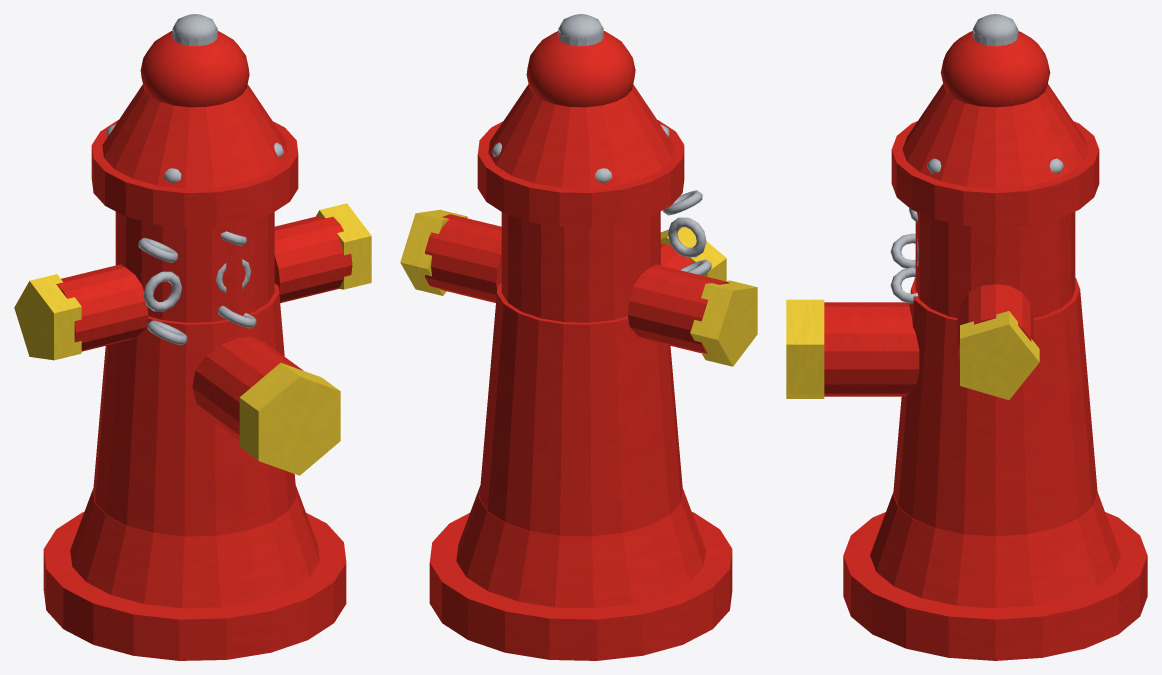
The model's file is prop_fire_hydrant.glb.
3 views of the same model, side by side, from view 1: azimuth 30°, elevation 25°; view 2: azimuth 150°, elevation 25°; view 3: azimuth 270°, elevation 25° (orthographic).
Parts seen in each view (by area): view 1: prop_fire_hydrant_barrel_lower, prop_fire_hydrant_ground_flange, prop_fire_hydrant_flange_cone, prop_fire_hydrant_bonnet, prop_fire_hydrant_barrel_upper, prop_fire_hydrant_bonnet_flange, prop_fire_hydrant_pumper_cap, prop_fire_hydrant_dome, prop_fire_hydrant_nozzle_l, prop_fire_hydrant_nozzle_r, prop_fire_hydrant_pumper, prop_fire_hydrant_nozzle_cap_l (+5 smaller); view 2: prop_fire_hydrant_barrel_lower, prop_fire_hydrant_ground_flange, prop_fire_hydrant_flange_cone, prop_fire_hydrant_barrel_upper, prop_fire_hydrant_bonnet, prop_fire_hydrant_bonnet_flange, prop_fire_hydrant_dome, prop_fire_hydrant_nozzle_l, prop_fire_hydrant_nozzle_r, prop_fire_hydrant_nozzle_cap_l, prop_fire_hydrant_nozzle_cap_r, prop_fire_hydrant_pumper_cap (+3 smaller); view 3: prop_fire_hydrant_barrel_lower, prop_fire_hydrant_ground_flange, prop_fire_hydrant_flange_cone, prop_fire_hydrant_bonnet, prop_fire_hydrant_barrel_upper, prop_fire_hydrant_bonnet_flange, prop_fire_hydrant_pumper, prop_fire_hydrant_dome, prop_fire_hydrant_nozzle_cap_r, prop_fire_hydrant_pumper_cap, prop_fire_hydrant_nozzle_r, prop_fire_hydrant_nut_cap (+2 smaller).
Part boxes in pixels (bbox=[...]): prop_fire_hydrant_barrel_lower: bbox=[93, 283, 296, 536]; prop_fire_hydrant_ground_flange: bbox=[43, 512, 346, 660]; prop_fire_hydrant_flange_cone: bbox=[70, 485, 319, 608]; prop_fire_hydrant_bonnet: bbox=[102, 84, 287, 188]; prop_fire_hydrant_barrel_upper: bbox=[115, 211, 274, 322]; prop_fire_hydrant_bonnet_flange: bbox=[91, 120, 298, 227]; prop_fire_hydrant_pumper_cap: bbox=[239, 362, 340, 475]; prop_fire_hydrant_dome: bbox=[140, 31, 249, 107]; prop_fire_hydrant_nozzle_l: bbox=[56, 264, 148, 351]; prop_fire_hydrant_nozzle_r: bbox=[274, 216, 352, 302]; prop_fire_hydrant_pumper: bbox=[192, 337, 303, 440]; prop_fire_hydrant_nozzle_cap_l: bbox=[14, 274, 81, 360]; prop_fire_hydrant_barrel_lower: bbox=[479, 283, 682, 536]; prop_fire_hydrant_ground_flange: bbox=[429, 512, 732, 660]; prop_fire_hydrant_flange_cone: bbox=[456, 485, 705, 608]; prop_fire_hydrant_barrel_upper: bbox=[501, 211, 660, 322]; prop_fire_hydrant_bonnet: bbox=[488, 84, 673, 188]; prop_fire_hydrant_bonnet_flange: bbox=[477, 120, 684, 227]; prop_fire_hydrant_dome: bbox=[526, 31, 635, 107]; prop_fire_hydrant_nozzle_l: bbox=[628, 264, 729, 353]; prop_fire_hydrant_nozzle_r: bbox=[425, 214, 501, 302]; prop_fire_hydrant_nozzle_cap_l: bbox=[690, 280, 757, 366]; prop_fire_hydrant_nozzle_cap_r: bbox=[400, 209, 467, 295]; prop_fire_hydrant_pumper_cap: bbox=[660, 227, 726, 280]; prop_fire_hydrant_barrel_lower: bbox=[893, 278, 1097, 536]; prop_fire_hydrant_ground_flange: bbox=[843, 512, 1147, 660]; prop_fire_hydrant_flange_cone: bbox=[870, 492, 1120, 608]; prop_fire_hydrant_bonnet: bbox=[902, 84, 1088, 188]; prop_fire_hydrant_barrel_upper: bbox=[915, 211, 1075, 317]; prop_fire_hydrant_bonnet_flange: bbox=[891, 121, 1099, 227]; prop_fire_hydrant_pumper: bbox=[824, 302, 919, 396]; prop_fire_hydrant_dome: bbox=[940, 31, 1050, 107]; prop_fire_hydrant_nozzle_cap_r: bbox=[960, 311, 1039, 400]; prop_fire_hydrant_pumper_cap: bbox=[786, 299, 824, 398]; prop_fire_hydrant_nozzle_r: bbox=[957, 284, 1033, 362]; prop_fire_hydrant_nut_cap: bbox=[973, 14, 1017, 38].
Size of the model in its own units: 0.482 by 0.8409 by 0.475.
3 materials, 3 textured.
